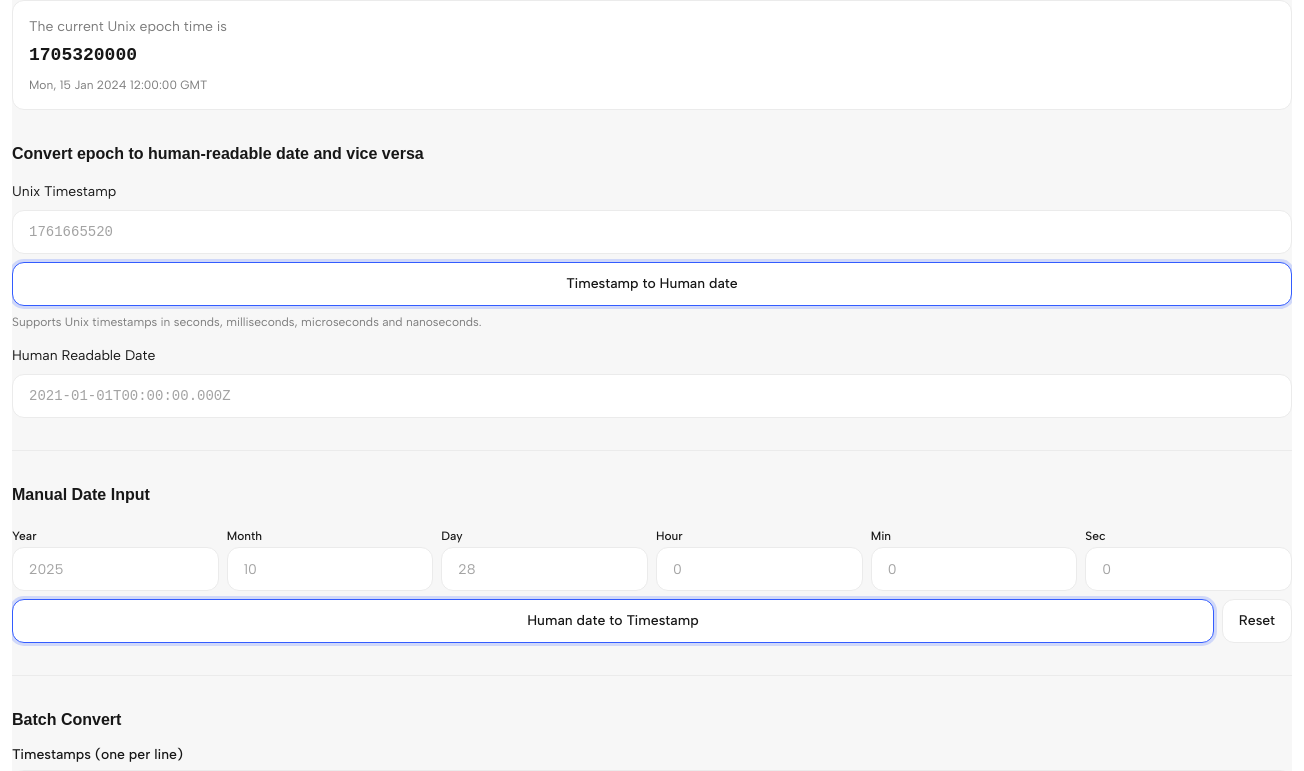
Scenario: EpochConverterTool › handles manual date input conversion
In the number field with placeholder "2025": [115, 569] box top-left (12, 547), bottom-right (219, 591), type "2024"
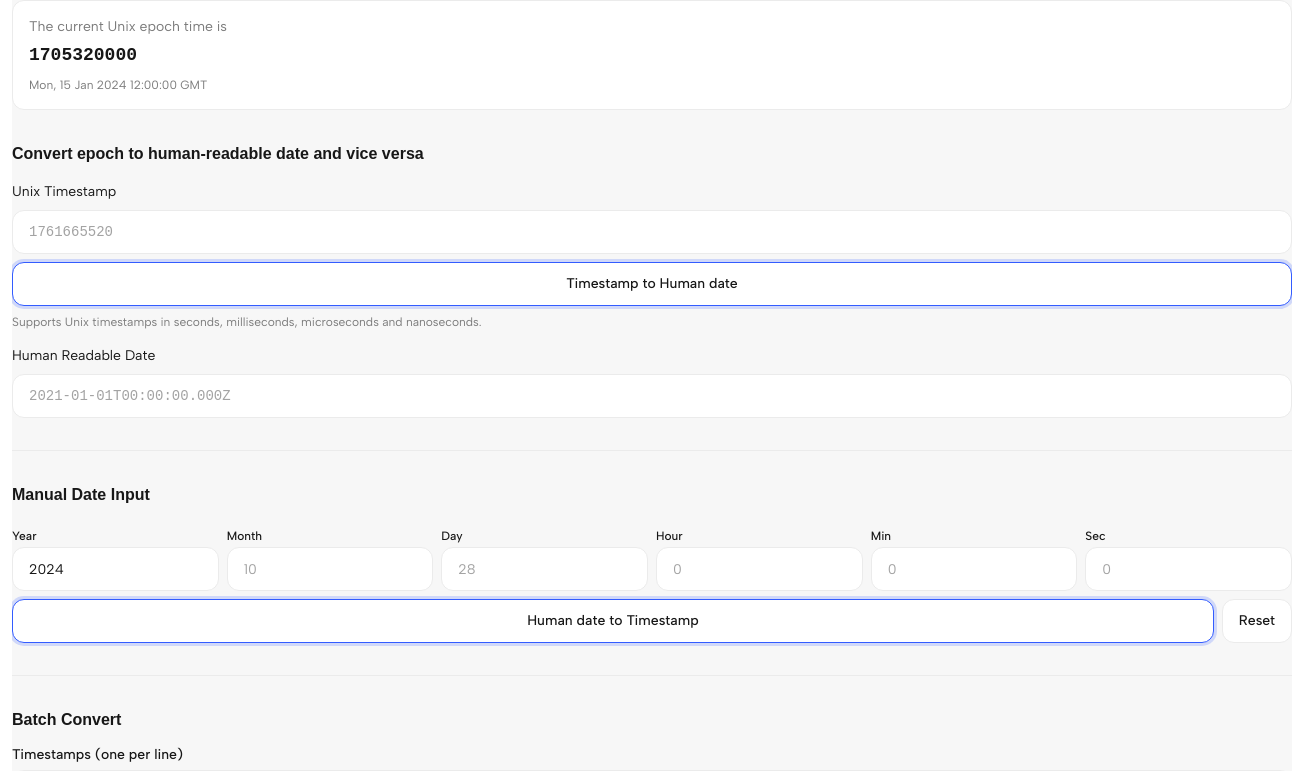
In the number field with placeholder "10": [330, 569] box top-left (227, 547), bottom-right (433, 591), type "1"
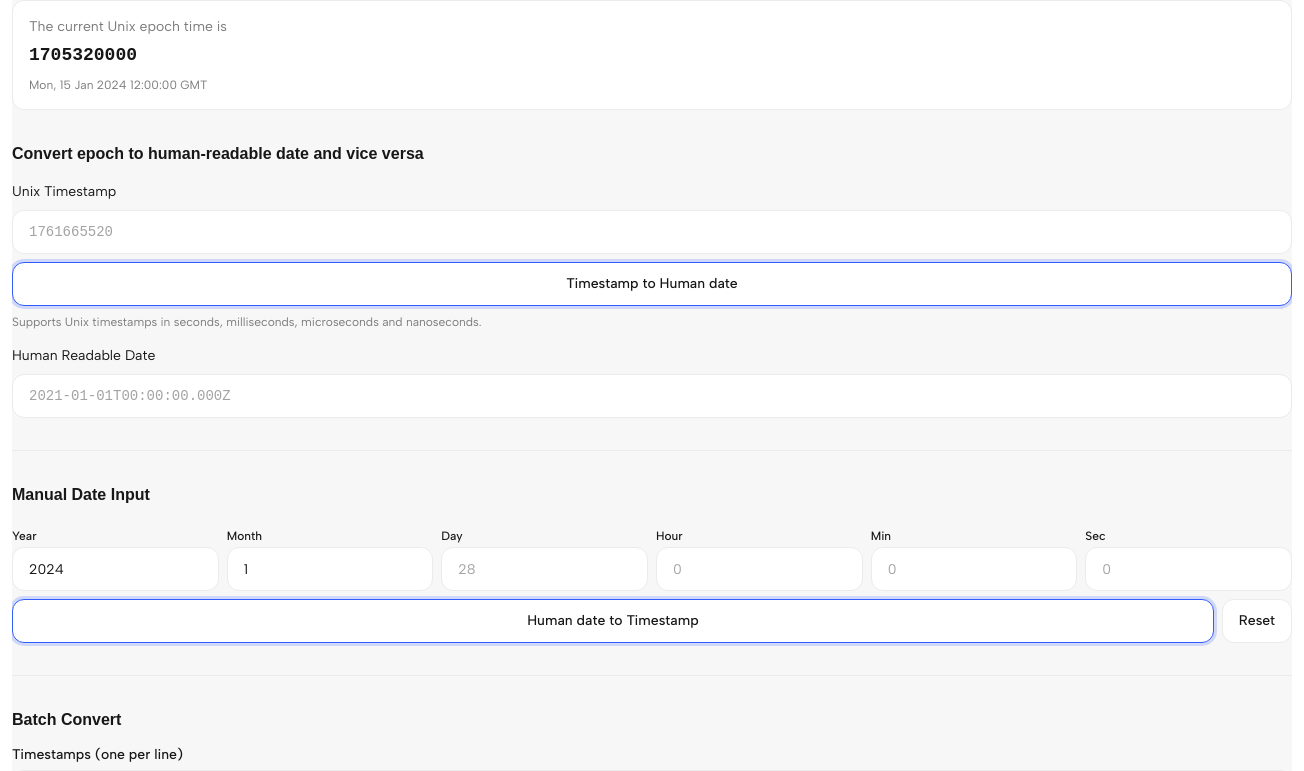
In the number field with placeholder "28": [545, 569] box top-left (441, 547), bottom-right (648, 591), type "1"
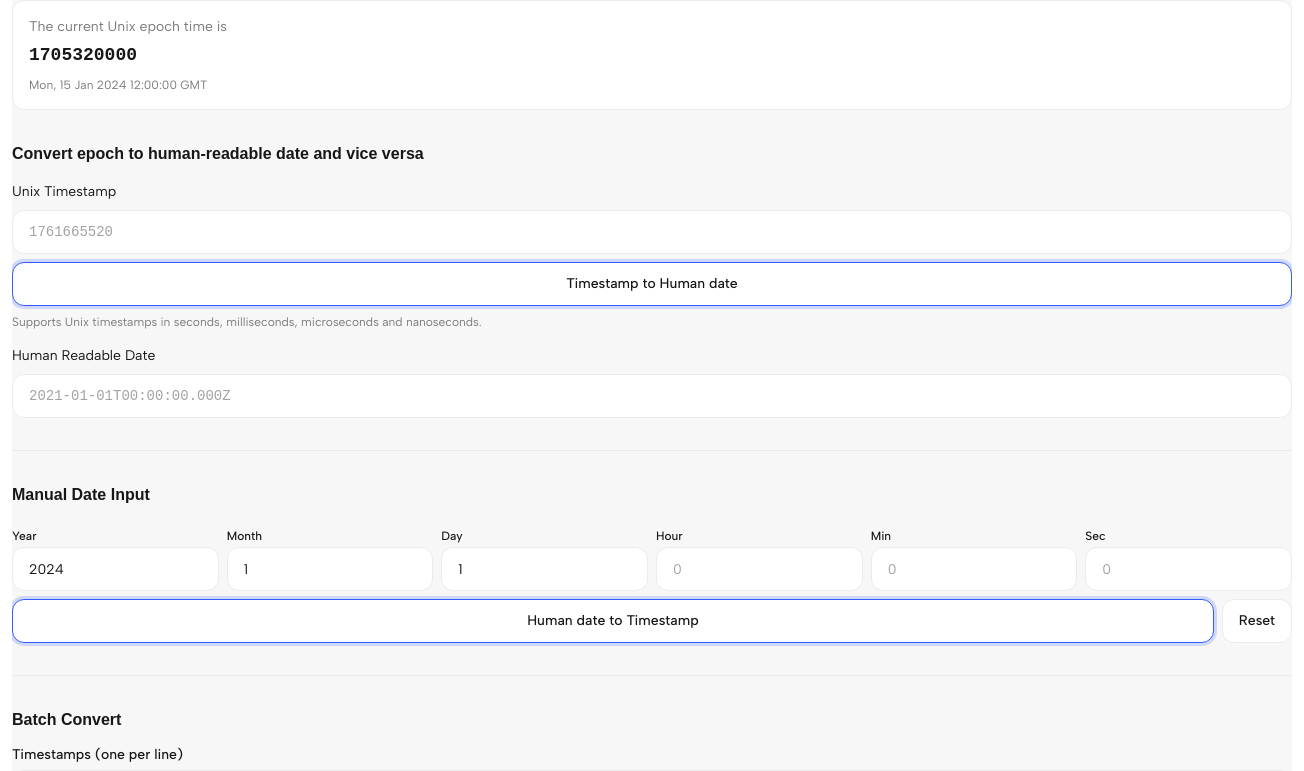
Click the button "Human date to Timestamp": [613, 621] box top-left (12, 599), bottom-right (1214, 643)
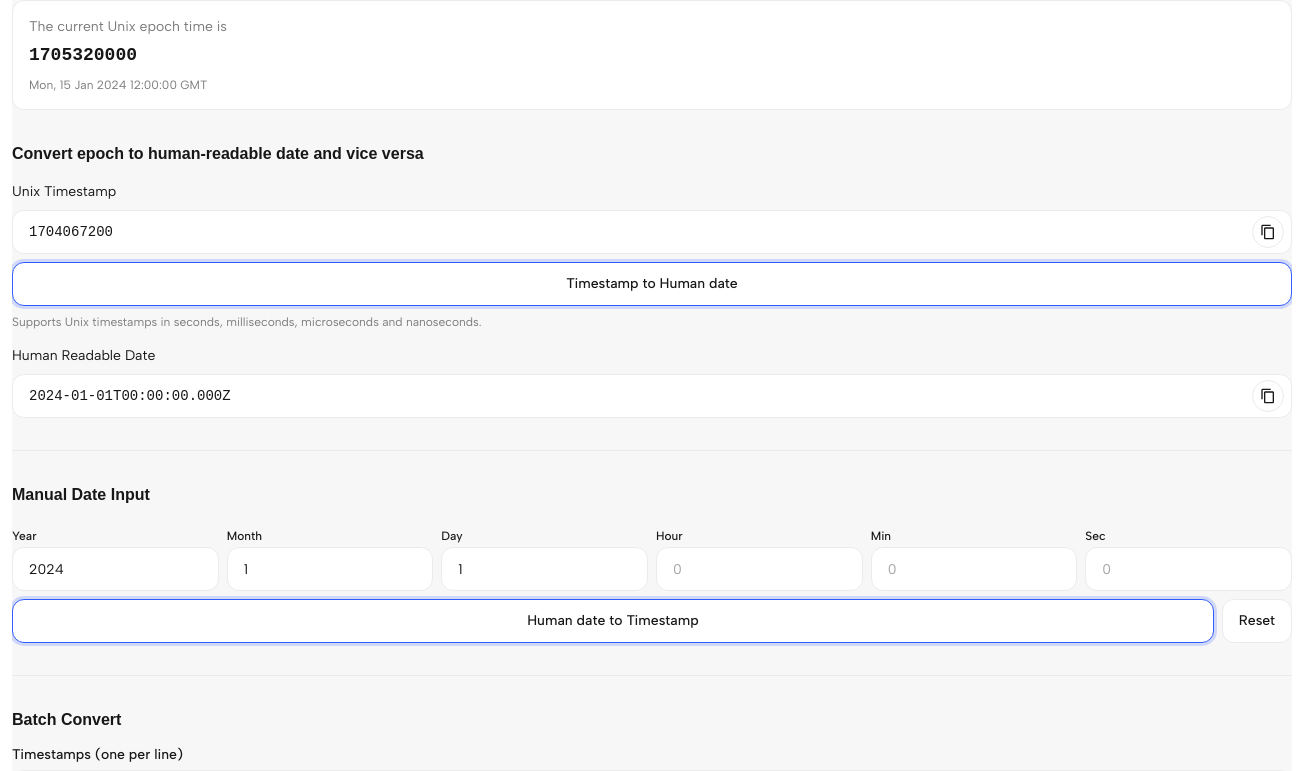
Result: the 1st field with placeholder "1761665520" is not empty at top-left (12, 210), bottom-right (1292, 254)
